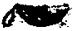Basket: (1, 3, 70, 30)
